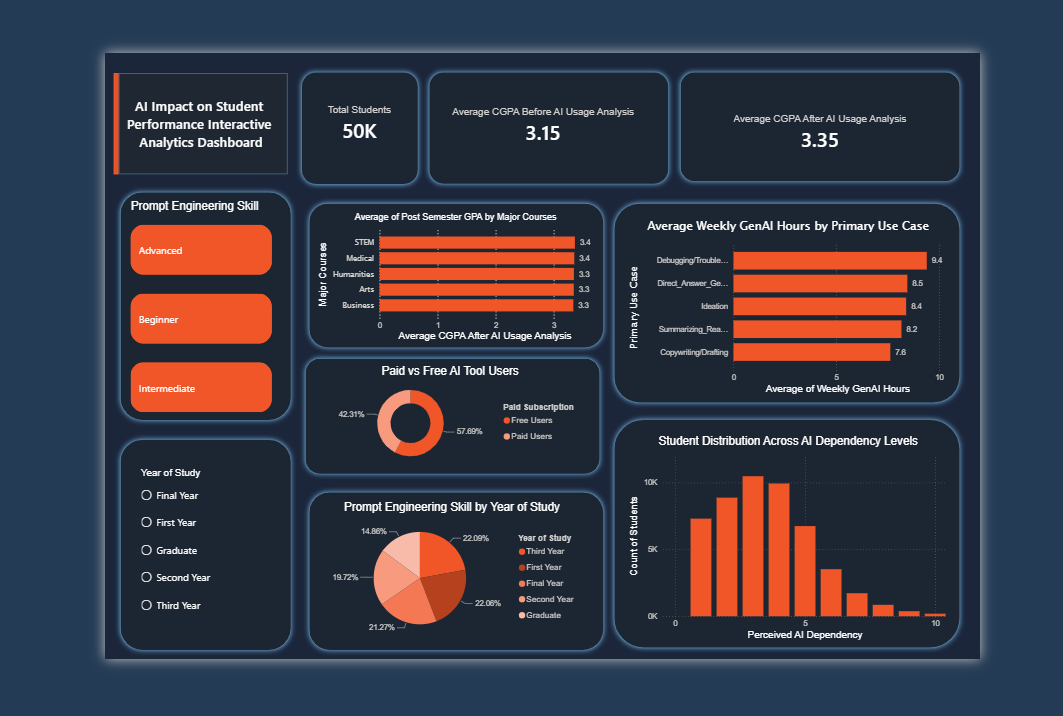

This screenshot's page, from the dashboard's own definition file:
{"tool":"powerbi","page":{"name":"AI Impact on Student Performance","canvas":[1400,970],"ordinal":0},"visuals":[{"type":"shape","box":[318,694,488,270],"z":0},{"type":"shape","box":[806,578,570,382],"z":1000},{"type":"shape","box":[318,232,488,248],"z":2000},{"type":"shape","box":[16,610,290,354],"z":3000},{"type":"shape","box":[912,22,464,192],"z":4000},{"type":"shape","box":[14,32,8,162],"z":5000},{"type":"shape","box":[16,214,290,382],"z":6000},{"type":"shape","box":[806,232,570,336],"z":7000},{"type":"shape","box":[306.7,21.7,203.3,196.7],"z":7500},{"type":"shape","box":[312,480,488,202],"z":8000},{"type":"shape","box":[510,22,400,196],"z":9000},{"type":"cardVisual","fields":{"Data":["CountNonNull(cleaned_ai_student_impact_dataset.Student_ID)"]},"box":[292,18,230,190],"z":11000},{"type":"cardVisual","fields":{"Data":["Avg(cleaned_ai_student_impact_dataset.Post_Semester_GPA)"]},"box":[956,32,376,190],"z":12000},{"type":"cardVisual","fields":{"Data":["Avg(cleaned_ai_student_impact_dataset.Pre_Semester_GPA)"]},"box":[495,26.7,410,181.7],"z":13000},{"type":"clusteredBarChart","title":"Average of Post Semester GPA by Major Courses","fields":{"Category":["cleaned_ai_student_impact_dataset.Major_Courses"],"Y":["Avg(cleaned_ai_student_impact_dataset.Post_Semester_GPA)"]},"box":[336,254,450,212],"z":14000},{"type":"donutChart","title":"Paid vs Free AI Tool Users","fields":{"Category":["cleaned_ai_student_impact_dataset.Paid_Subscription"],"Y":["CountNonNull(cleaned_ai_student_impact_dataset.Student_ID)"]},"box":[336,498,432,168],"z":15000},{"type":"clusteredBarChart","title":"Average Weekly GenAI Hours by Primary Use Case","fields":{"Category":["cleaned_ai_student_impact_dataset.Primary_Use_Case"],"Y":["Avg(cleaned_ai_student_impact_dataset.Weekly_GenAI_Hours)"]},"box":[834,262,518,288],"z":16000},{"type":"pieChart","title":"Prompt Engineering Skill by Year of Study","fields":{"Category":["cleaned_ai_student_impact_dataset.Year_of_Study"],"Y":["CountNonNull(cleaned_ai_student_impact_dataset.Prompt_Engineering_Skill)"]},"box":[342,716,426,228],"z":17000},{"type":"advancedSlicerVisual","fields":{"Values":["cleaned_ai_student_impact_dataset.Prompt_Engineering_Skill"]},"box":[36,234,236,346],"z":18000},{"type":"clusteredColumnChart","title":"Student Distribution Across AI Dependency Levels","fields":{"Category":["cleaned_ai_student_impact_dataset.Perceived_AI_Dependency"],"Y":["CountNonNull(cleaned_ai_student_impact_dataset.Student_ID)"]},"box":[834,610,518,334],"z":19000},{"type":"listSlicer","fields":{"Values":["cleaned_ai_student_impact_dataset.Year_of_Study"]},"box":[52,662,230,252],"z":20000},{"type":"shape","box":[22,32,270,162],"z":20500},{"type":"textbox","box":[15.5,63.6,275.5,112.7],"z":21000}]}

Visuals, with their boxes in screenshot pixels (x1, y1, x2, y2), scaled from the page's 1400x970 canvas onto the 1063x716 screenshot:
shape: [241, 512, 612, 712]
shape: [612, 427, 1045, 709]
shape: [241, 171, 612, 354]
shape: [12, 450, 232, 712]
shape: [692, 16, 1045, 158]
shape: [11, 24, 17, 143]
shape: [12, 158, 232, 440]
shape: [612, 171, 1045, 419]
shape: [233, 16, 387, 161]
shape: [237, 354, 607, 503]
shape: [387, 16, 691, 161]
cardVisual - CountNonNull(cleaned_ai_student_impact_dataset.Student_ID): [222, 13, 396, 154]
cardVisual - Avg(cleaned_ai_student_impact_dataset.Post_Semester_GPA): [726, 24, 1011, 164]
cardVisual - Avg(cleaned_ai_student_impact_dataset.Pre_Semester_GPA): [376, 20, 687, 154]
"Average of Post Semester GPA by Major Courses" clusteredBarChart: [255, 187, 597, 344]
"Paid vs Free AI Tool Users" donutChart: [255, 368, 583, 492]
"Average Weekly GenAI Hours by Primary Use Case" clusteredBarChart: [633, 193, 1027, 406]
"Prompt Engineering Skill by Year of Study" pieChart: [260, 529, 583, 697]
advancedSlicerVisual - cleaned_ai_student_impact_dataset.Prompt_Engineering_Skill: [27, 173, 207, 428]
"Student Distribution Across AI Dependency Levels" clusteredColumnChart: [633, 450, 1027, 697]
listSlicer - cleaned_ai_student_impact_dataset.Year_of_Study: [39, 489, 214, 675]
shape: [17, 24, 222, 143]
textbox: [12, 47, 221, 130]
